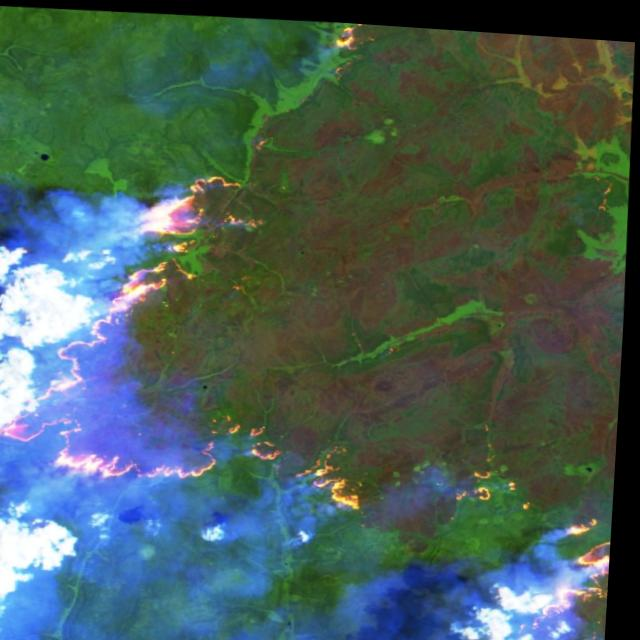fire: (0, 151, 391, 535), (442, 440, 621, 640)
